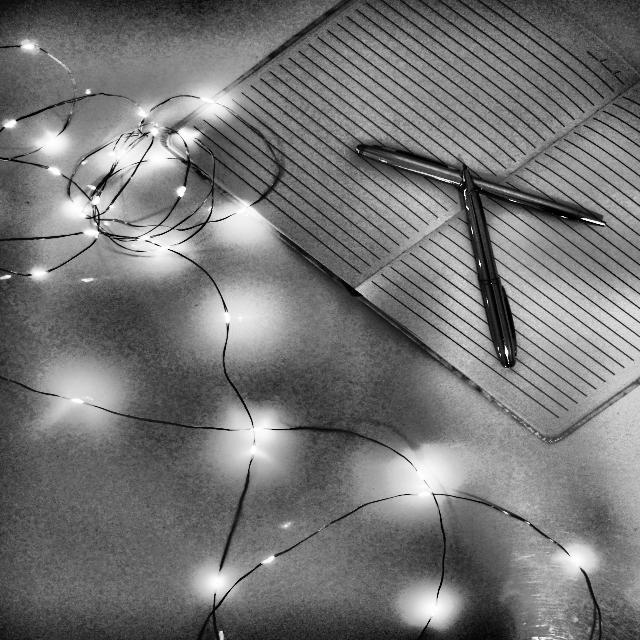Notebook: (177, 0, 640, 441)
Pen: (350, 142, 609, 230), (455, 162, 524, 371)
